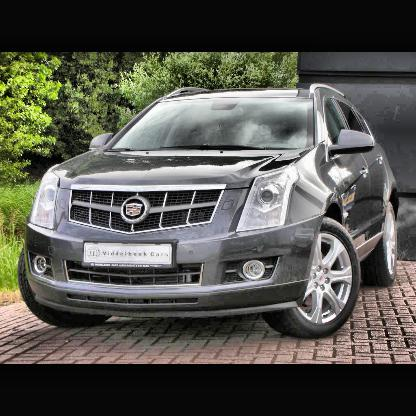Cadillac SRX SUV 2012: (18, 85, 403, 342)
